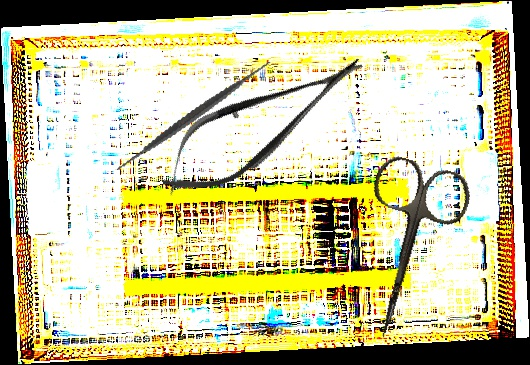Iris Scissors: (334, 152, 477, 350)
Micro Scissor: (144, 35, 381, 213)
Spatula Surgical: (107, 28, 281, 204)
